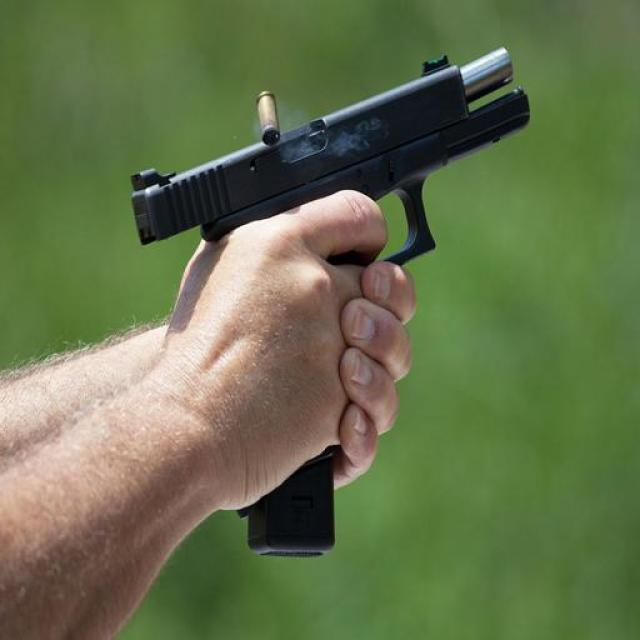pistol: (125, 36, 541, 547)
